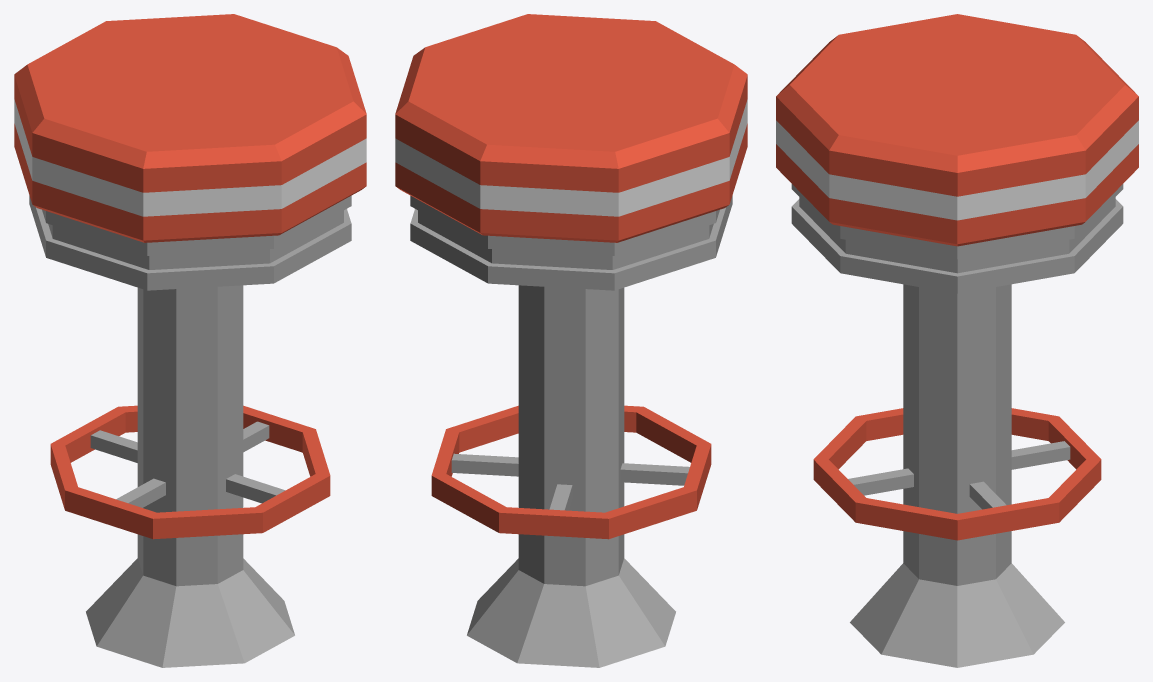
Rendered from Barstool.fbx.
3 renders of one model, left to right at view 1: azimuth 30°, elevation 25°; view 2: azimuth 150°, elevation 25°; view 3: azimuth 270°, elevation 25°, orthographic.
Parts seen in each view (by area): view 1: BarStool; view 2: BarStool; view 3: BarStool.
Boxes of the visible parts, x1,y1,x2,y2 form: BarStool: (14, 14, 366, 667); BarStool: (395, 14, 747, 667); BarStool: (776, 14, 1138, 667).
Size of the model in its own units: 46.58 by 76.14 by 46.58.
